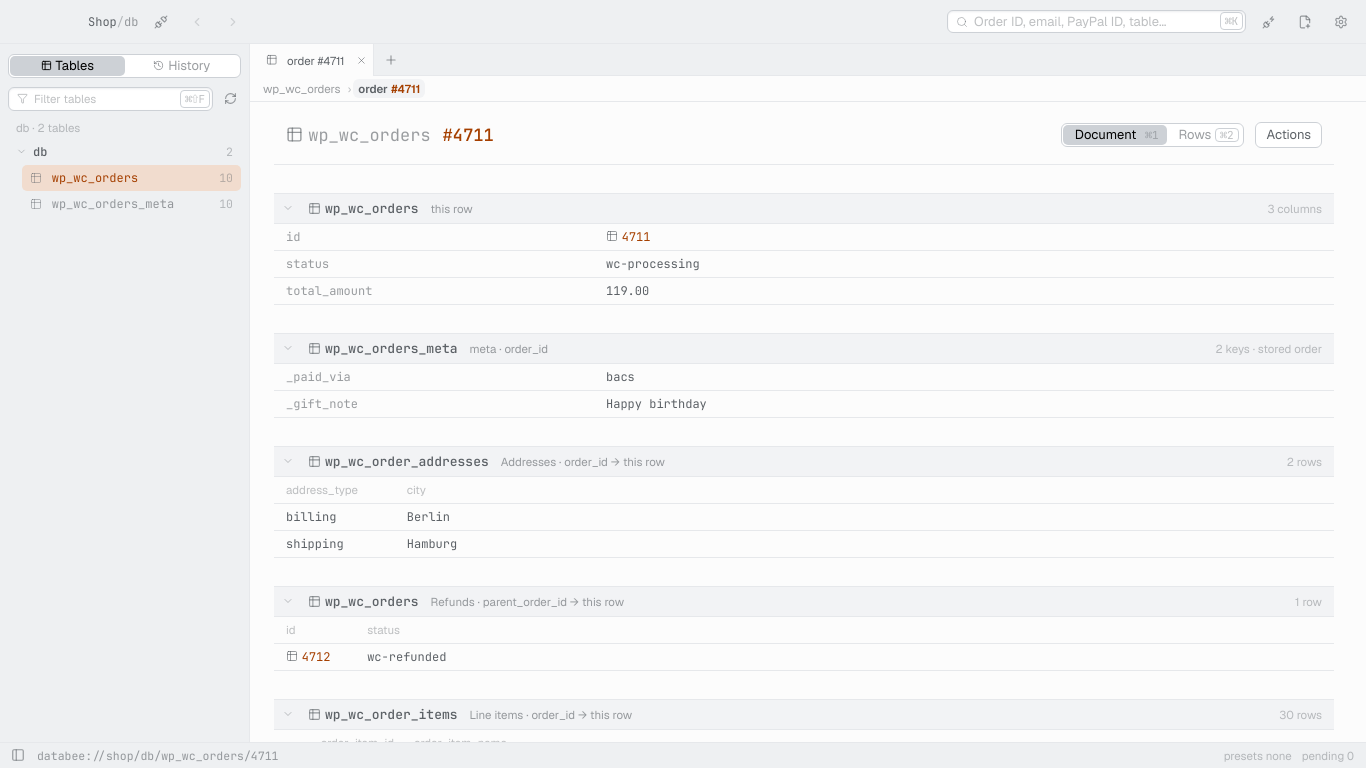
Test case: live mode and change marks › w › starts watching the row, polls after the live interval and stops on the next w
The image size is (1366, 768).
Expected: the element showing "db 2 wp_wc_orders 10 wp_wc_orders_meta 10" is shown, [16,144,241,212]
Click the text "wc-processing": (653, 264) [603,256,703,272]
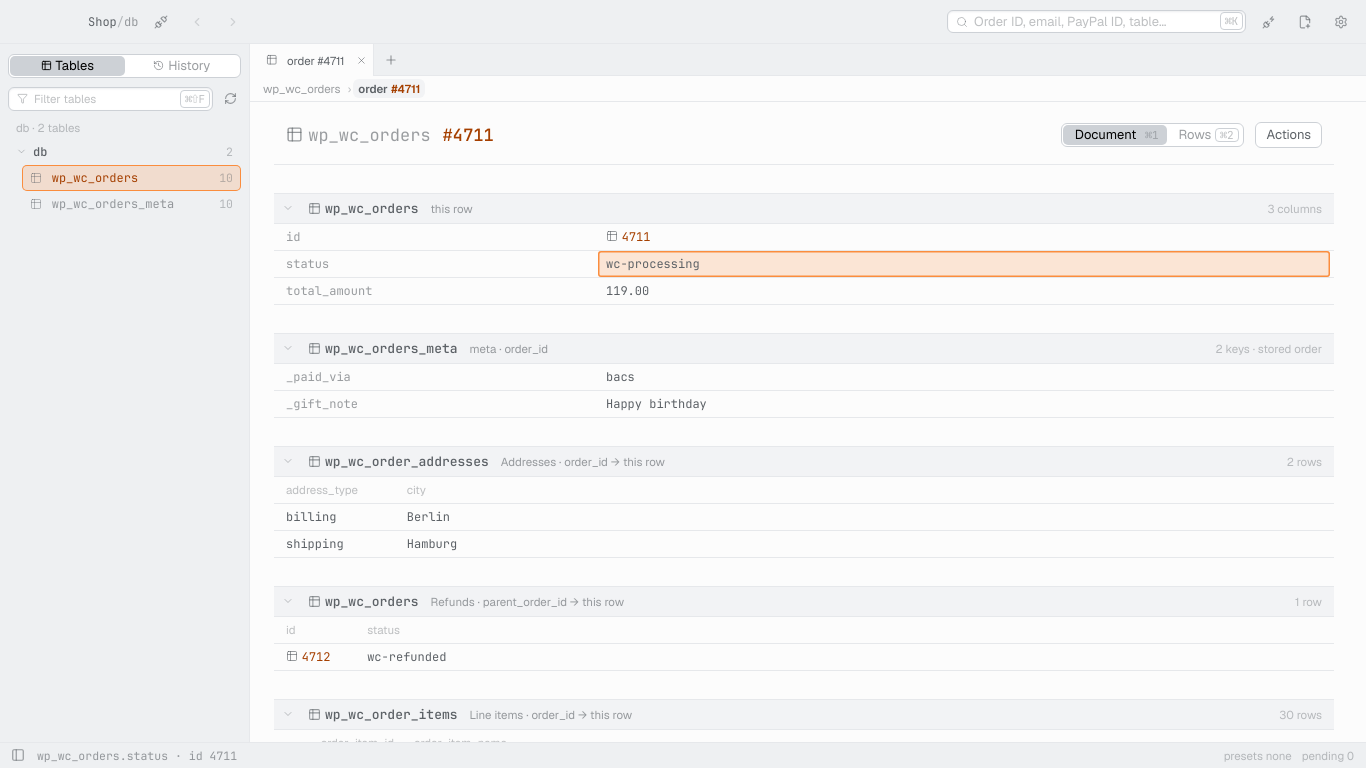
Type keys "w"
Wait 5500 ms
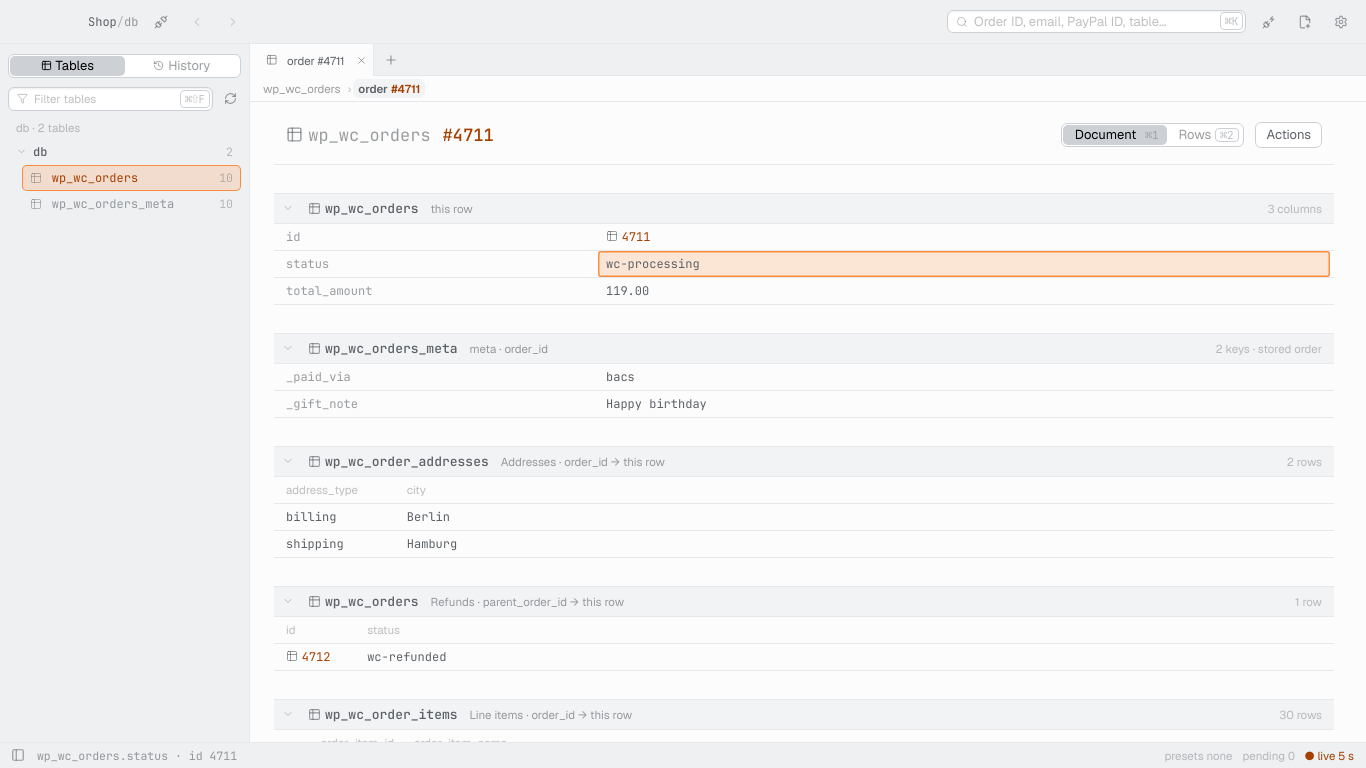
Now the button "● live 5 s" is shown, box [1305,748,1354,763]
Type keys "w"
Wait 20000 ms
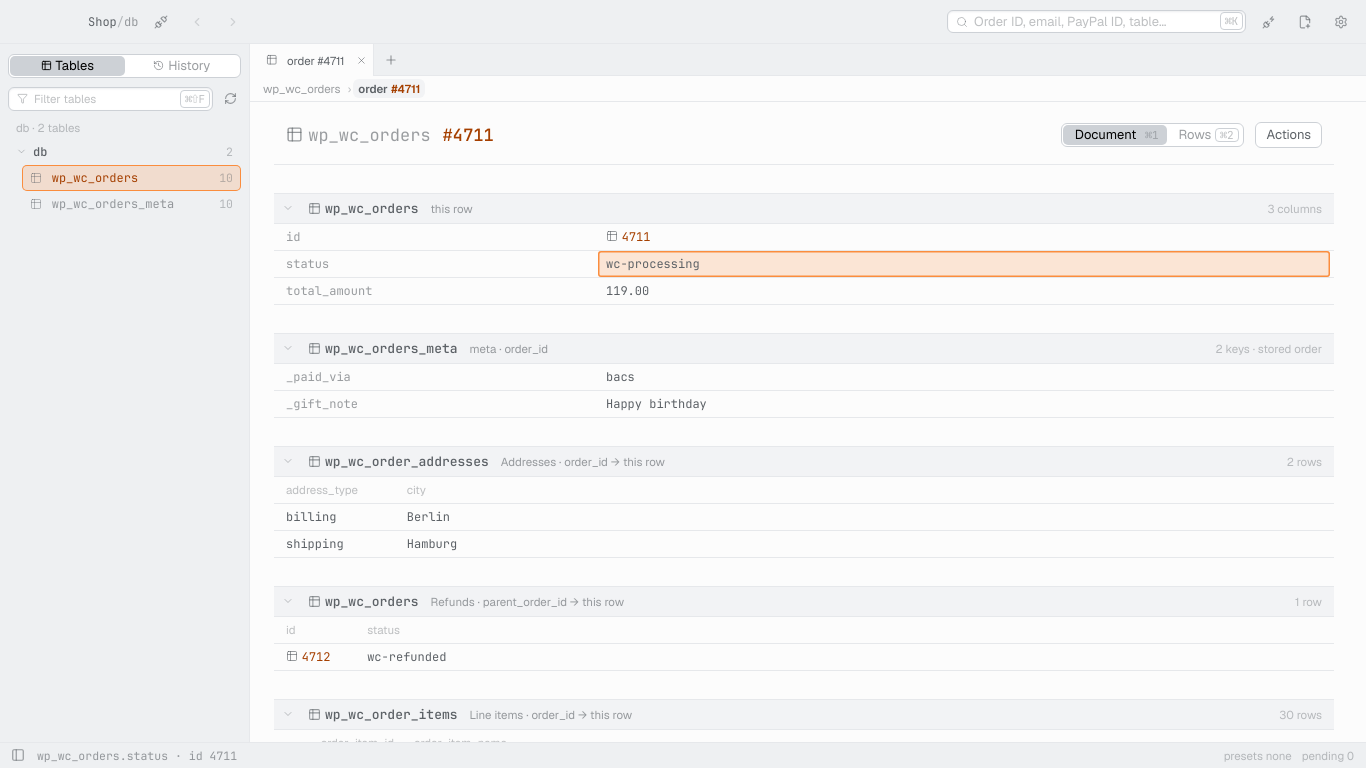
Now the button "● live" is gone
